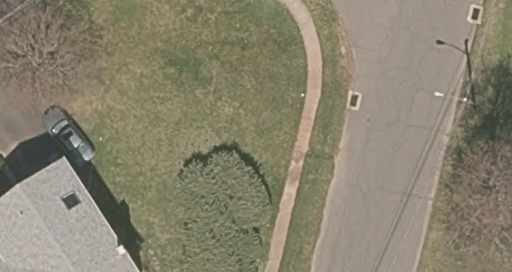DT: (438, 89, 467, 106)
